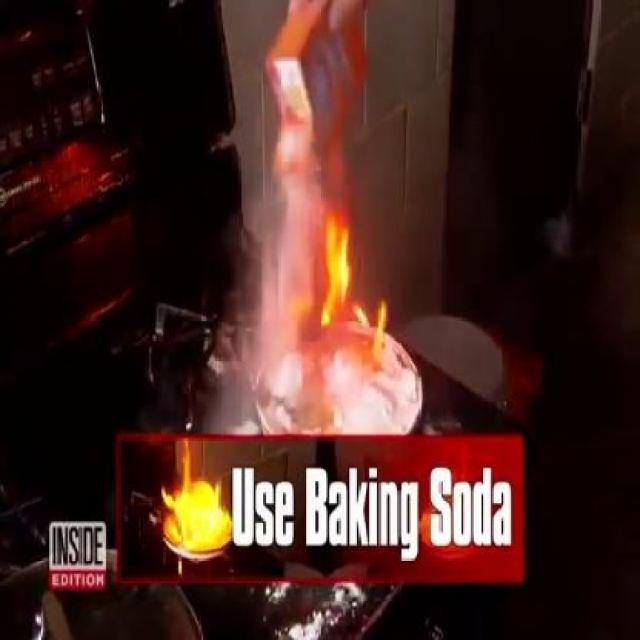fire: (168, 468, 228, 560), (326, 218, 363, 320)
smoke: (222, 275, 320, 400)
